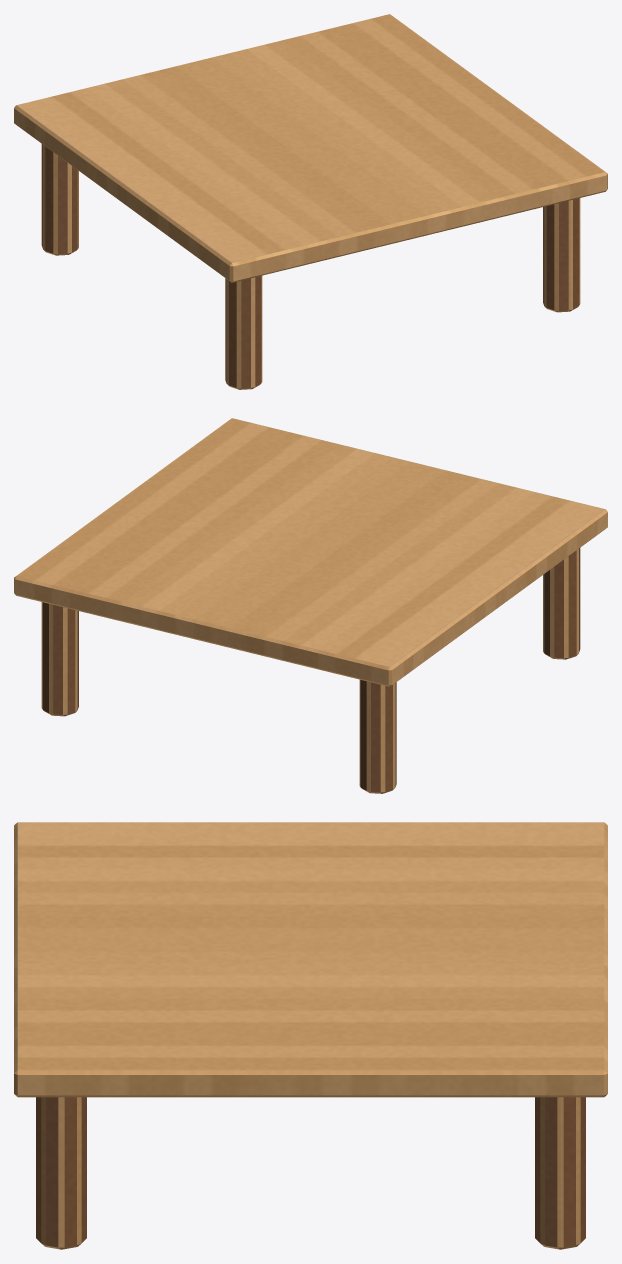
The model's file is sm_farm_floor.glb.
The picture shows the model from 3 angles, top to bottom: view 1: azimuth 30°, elevation 25°; view 2: azimuth 150°, elevation 25°; view 3: azimuth 270°, elevation 25°; orthographic projection. The views are drawn at different scales.
Parts seen in each view (by area): view 1: sm_farm_floor; view 2: sm_farm_floor; view 3: sm_farm_floor.
Part boxes in pixels (<box>): sm_farm_floor: <box>14,14,607,389</box>; sm_farm_floor: <box>14,418,607,793</box>; sm_farm_floor: <box>14,822,607,1249</box>.
Size of the model in its own units: 1 by 0.35 by 1.
Materials: 1 (1 with a texture image).
